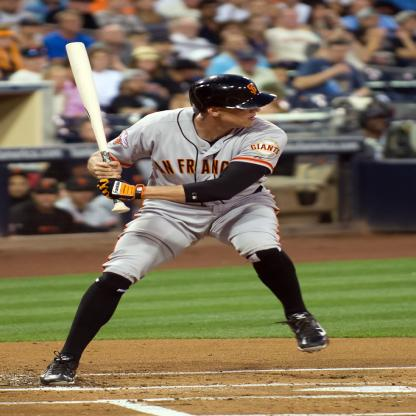Helmet: (184, 70, 272, 123)
